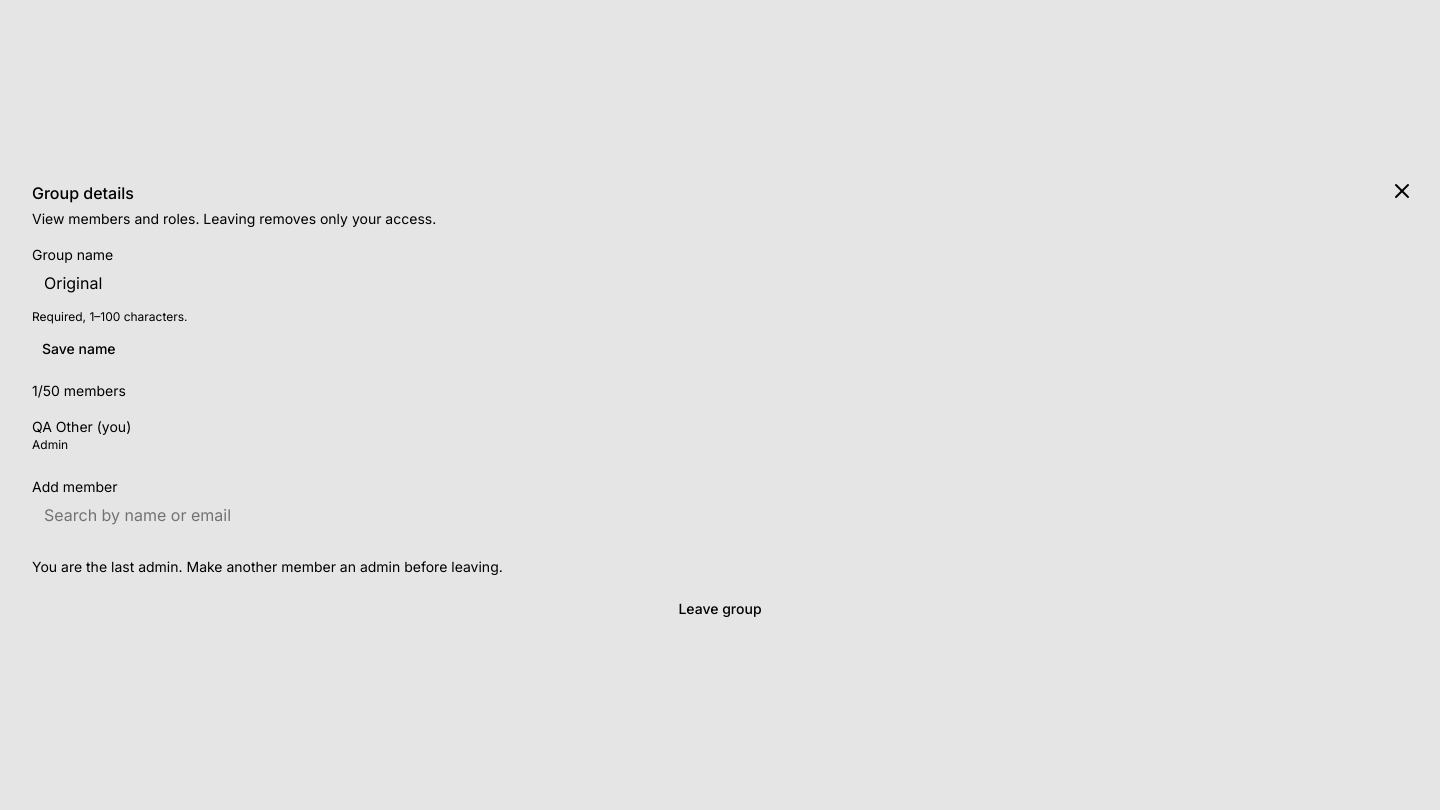
retains details and edited name after failed rename and exposes roles
Expected: the text "Admin" is shown, [32,437,68,452]
Replace the text in the field labelled "Group name" with "Keep this rename" at (720, 283), box [32,265,1408,301]
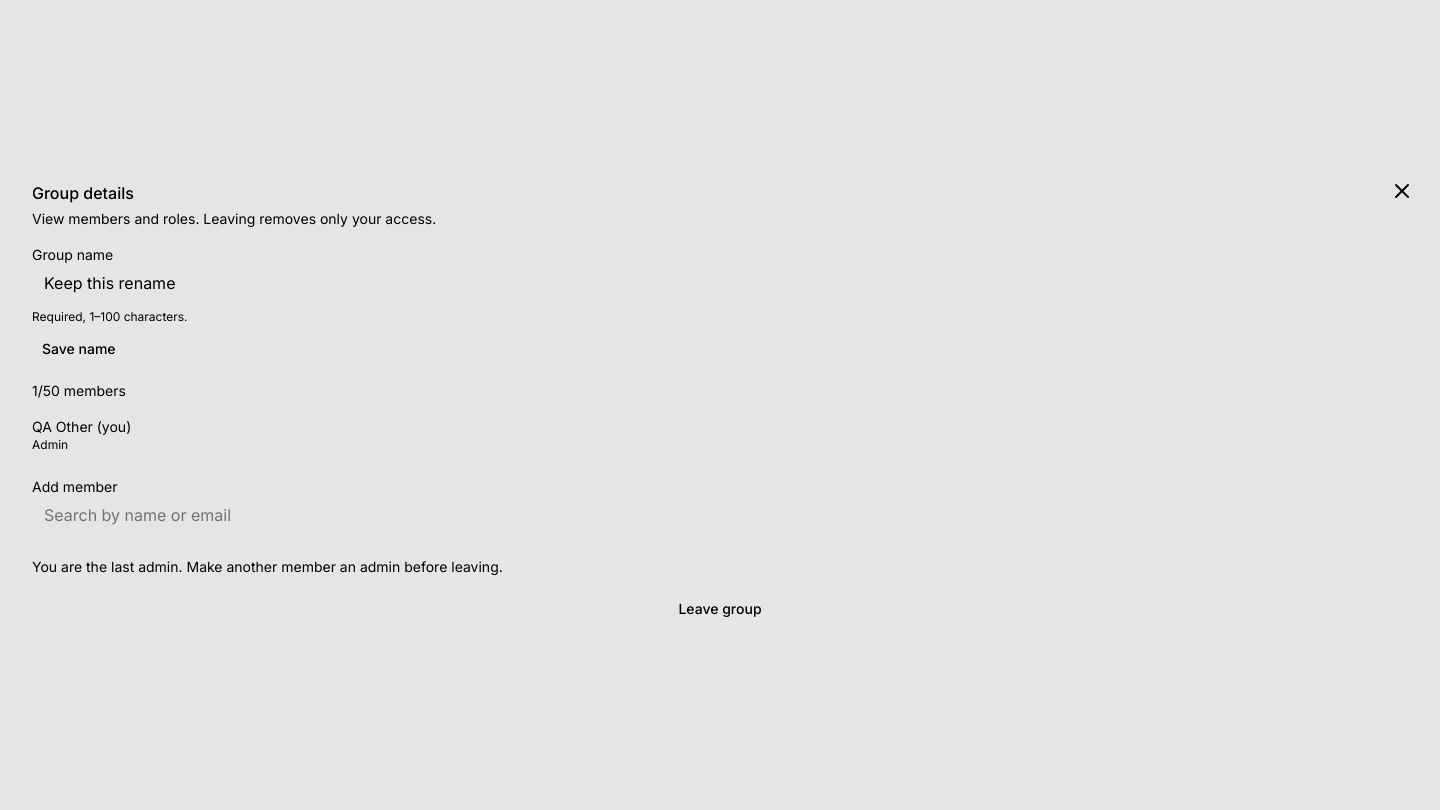
Click the button "Save name" at (79, 349), box [32,333,126,365]
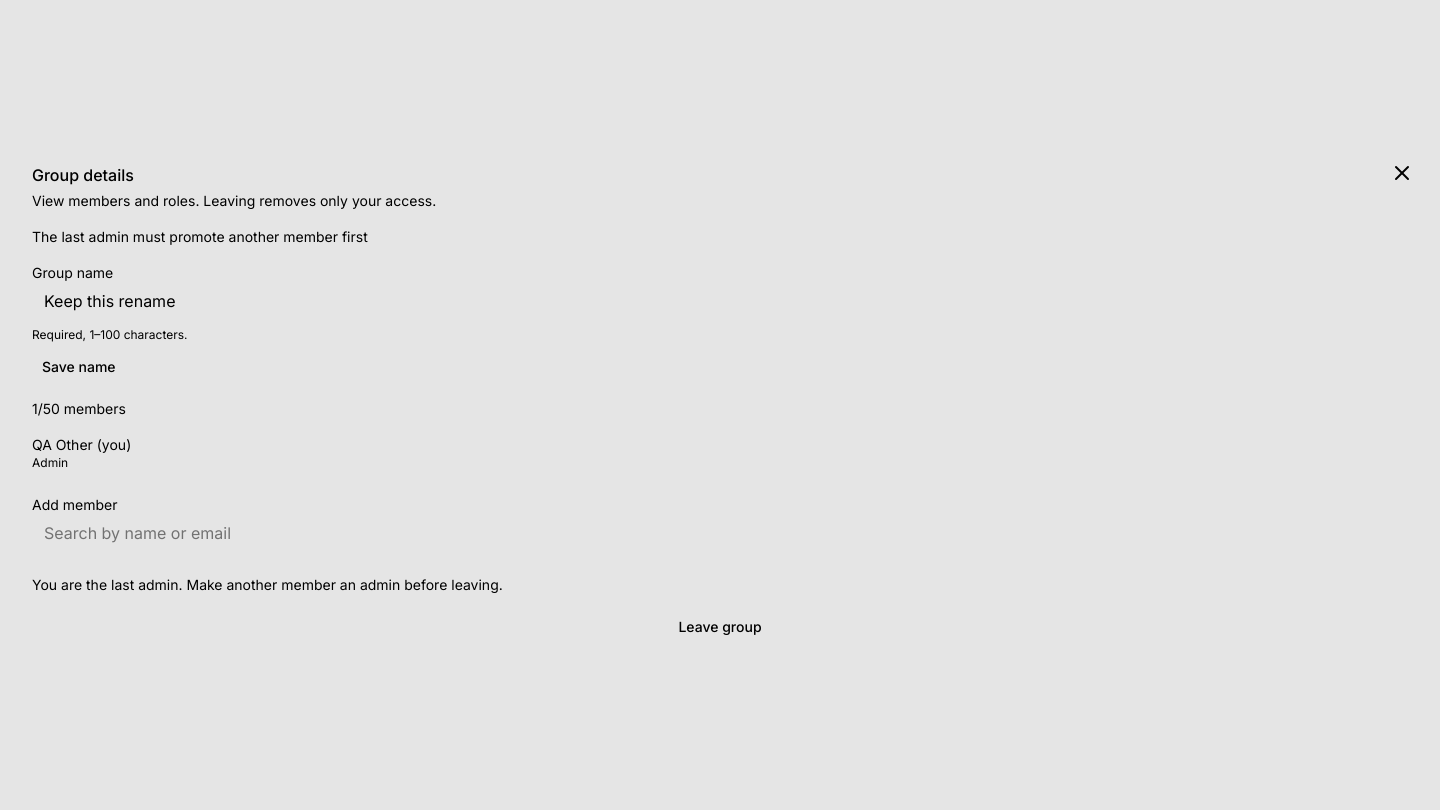
Result: the message "The last admin must promote another member first" is shown at [32,228,368,245]
